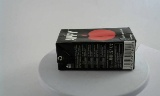appy: (50, 26, 128, 72)
